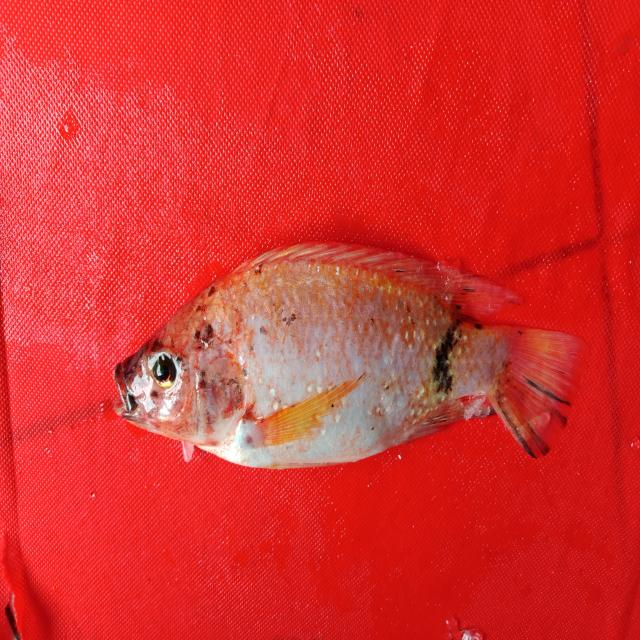ikan: (112, 238, 587, 471)
